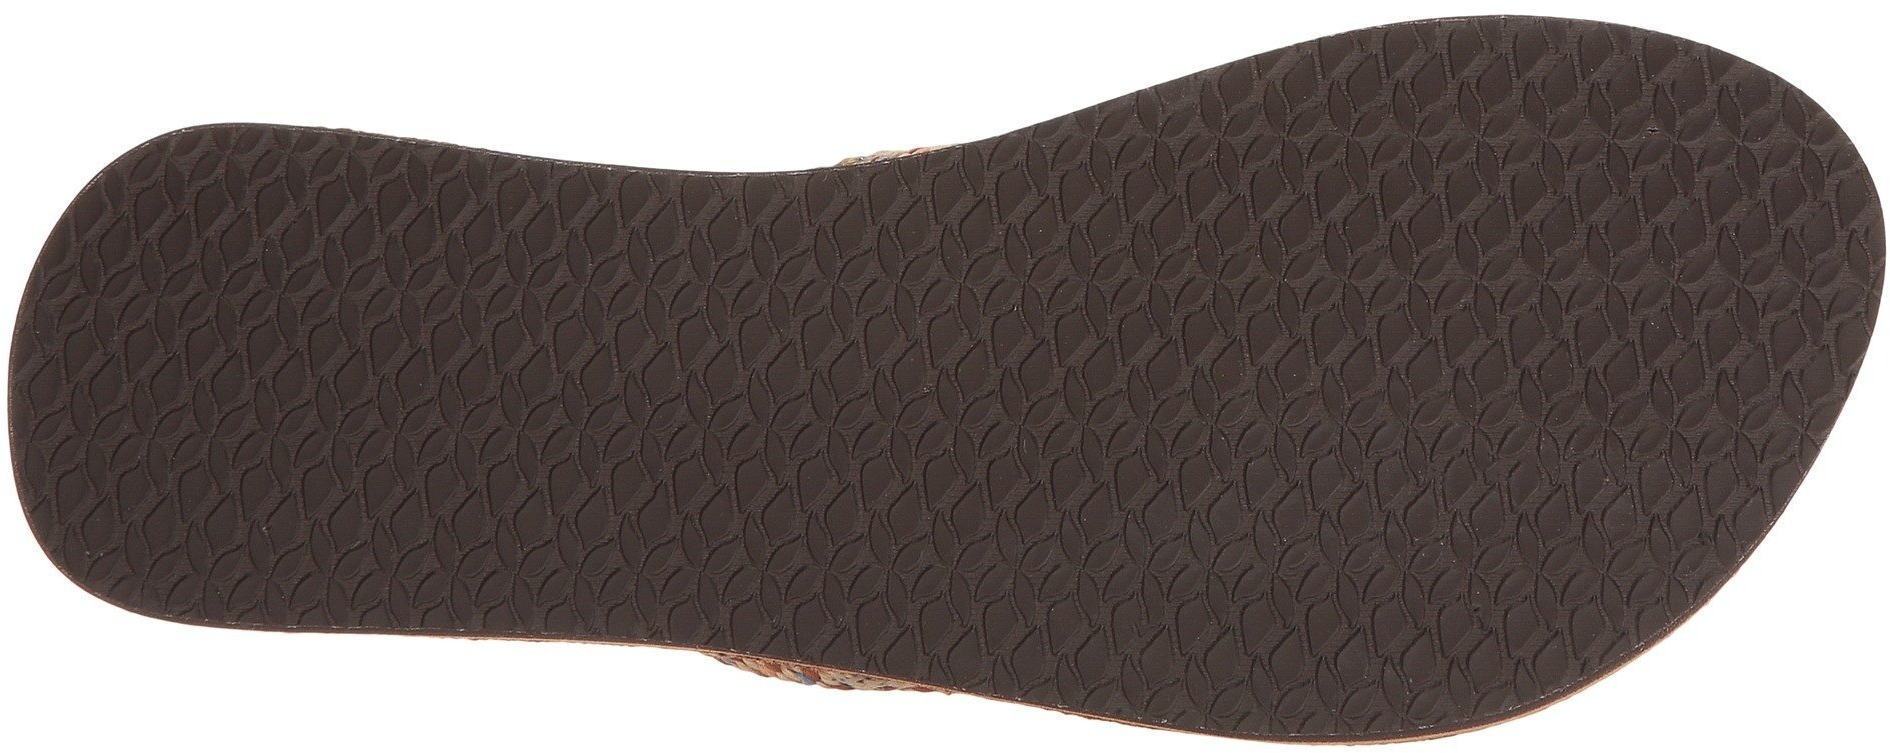exclude: (453, 64, 1040, 173)
